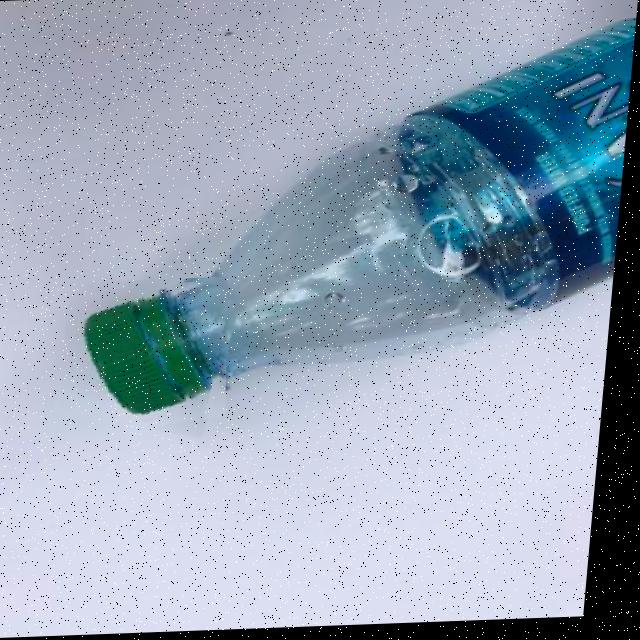litter: (65, 277, 244, 437)
